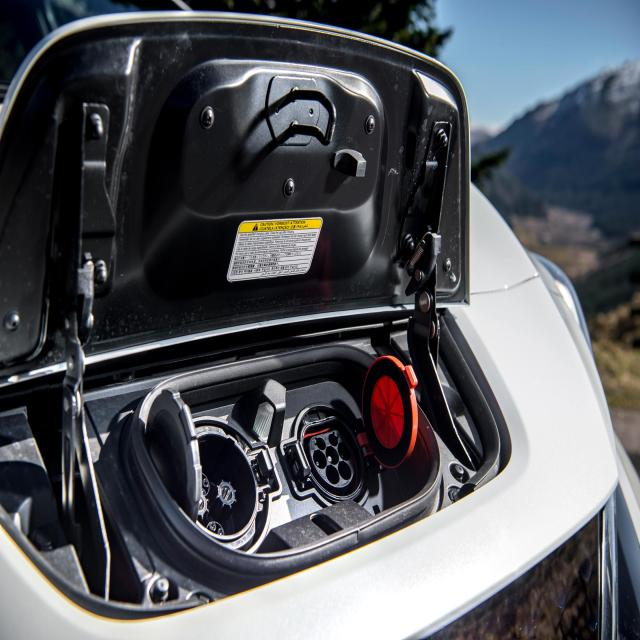CHAdeMO: (176, 424, 273, 558)
